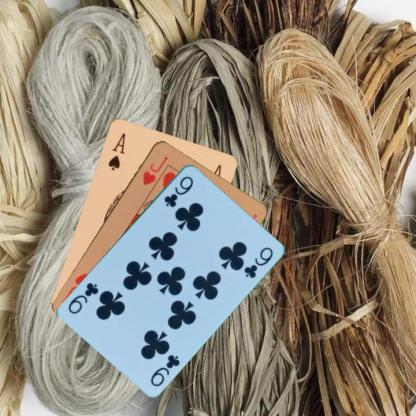9c: (147, 351, 182, 388), (161, 173, 195, 208)
As: (105, 130, 127, 172)
Jh: (140, 152, 170, 186)
